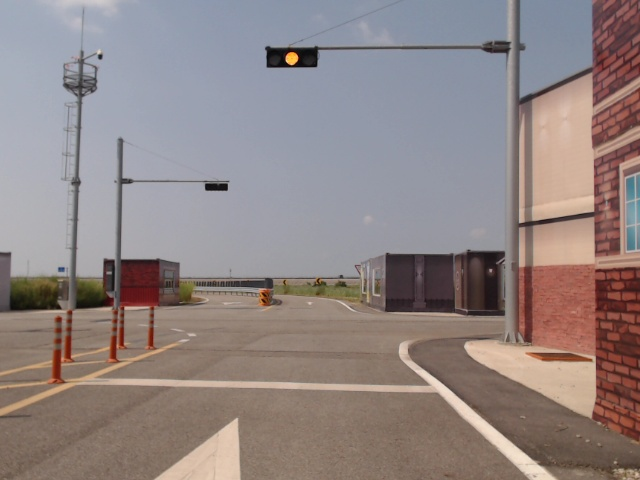orange_3: (268, 46, 317, 69)
